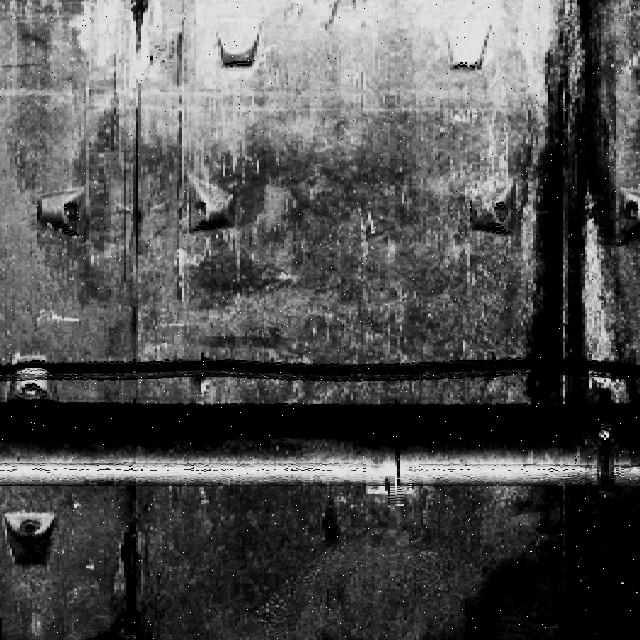leakage: (513, 0, 639, 409), (454, 483, 639, 639), (99, 521, 149, 639)
